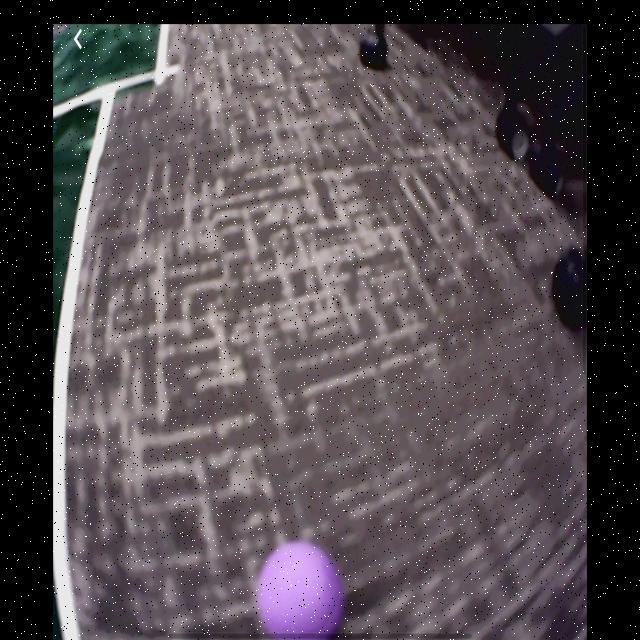ball: (255, 540, 346, 639)
